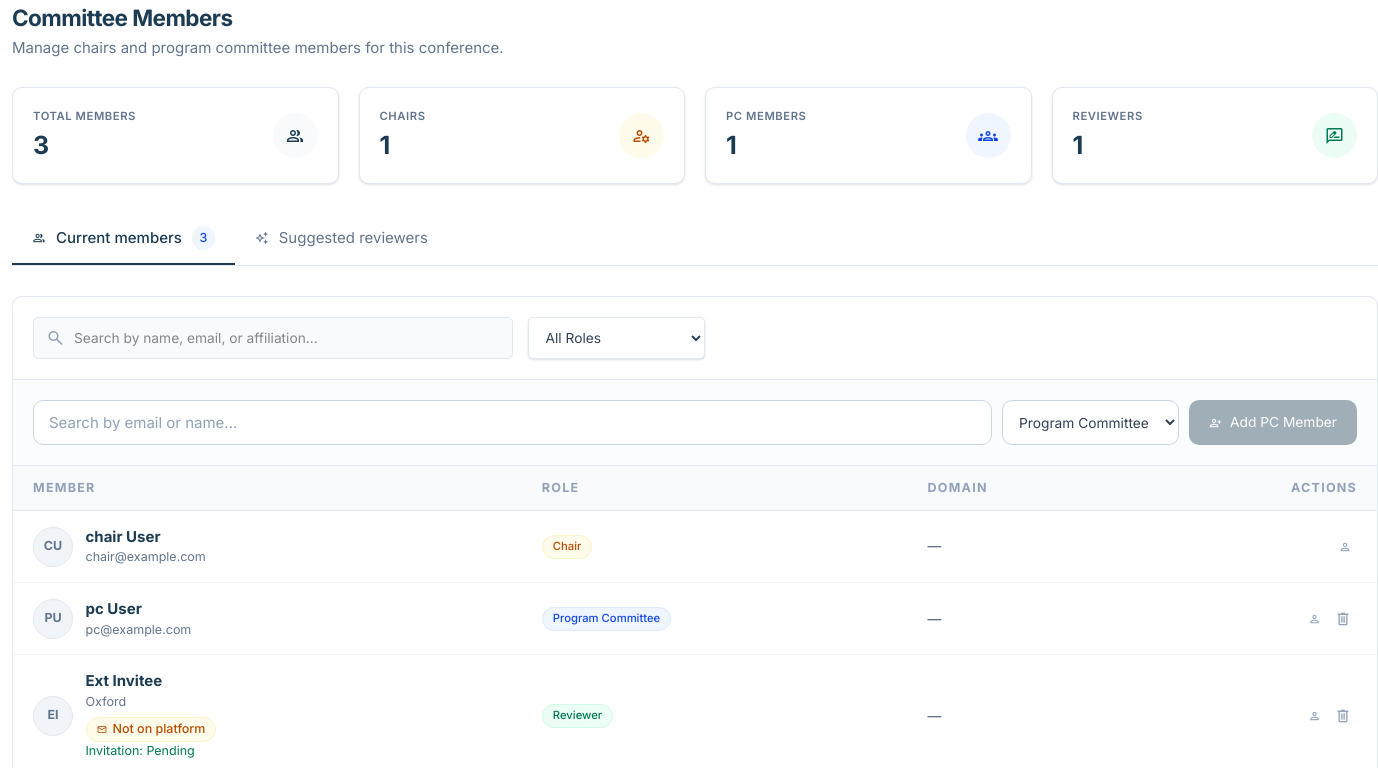
Test: ConferenceCommittee — profile links › exposes profile icon links in the search dropdown for platform users
Type "new" into the field with placeholder "Search by email or name..." at {"x": 512, "y": 423}, box top-left (33, 400), bottom-right (992, 445)
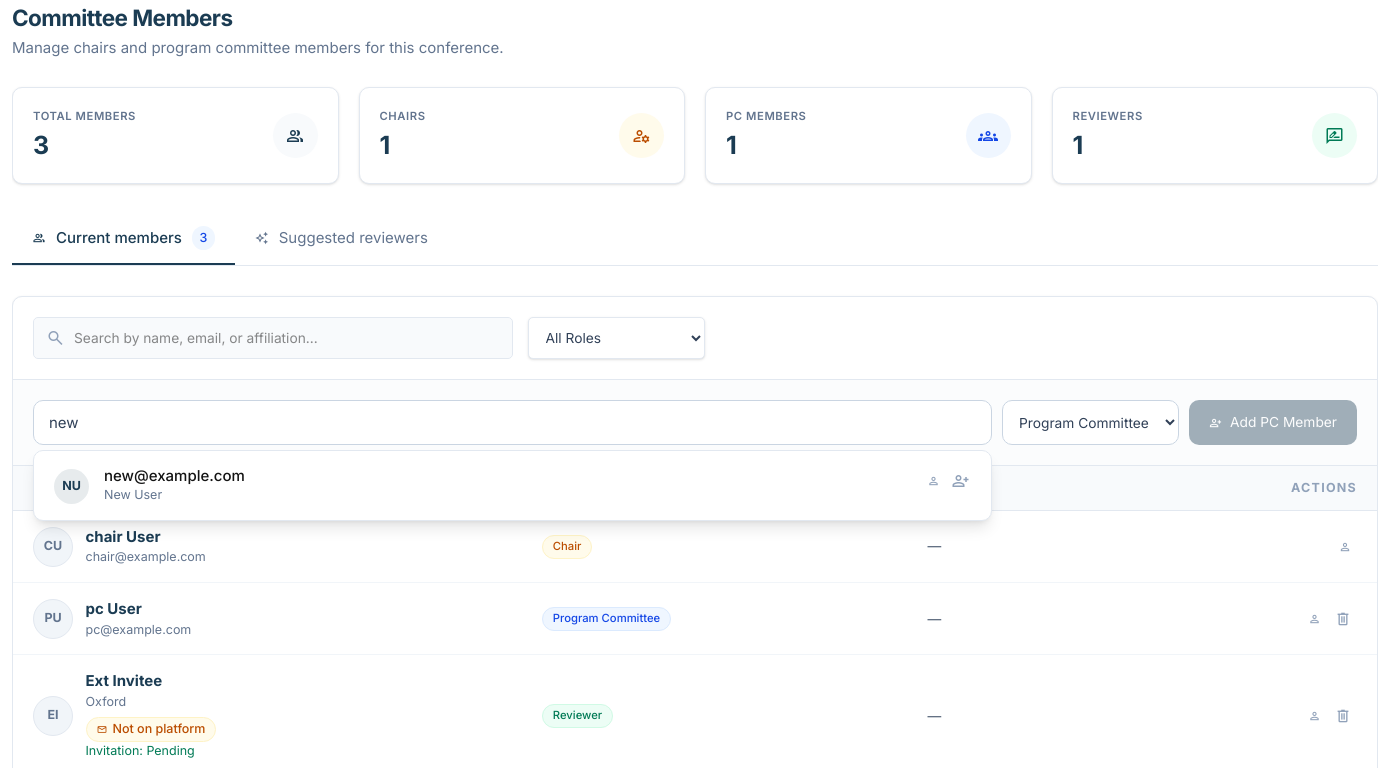
Expected: the text "new@example.com" is shown, top-left (104, 466), bottom-right (245, 485)
